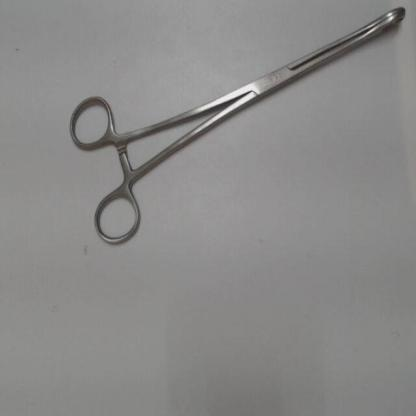Sponge Forceps: (62, 2, 414, 254)
